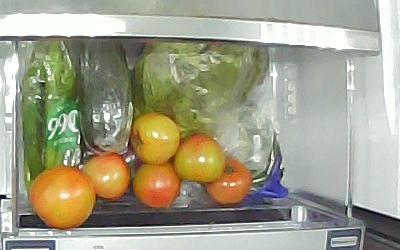tomato: (28, 165, 95, 228), (129, 111, 180, 163), (173, 132, 225, 183), (80, 151, 131, 199), (131, 159, 180, 208), (203, 155, 251, 204)
